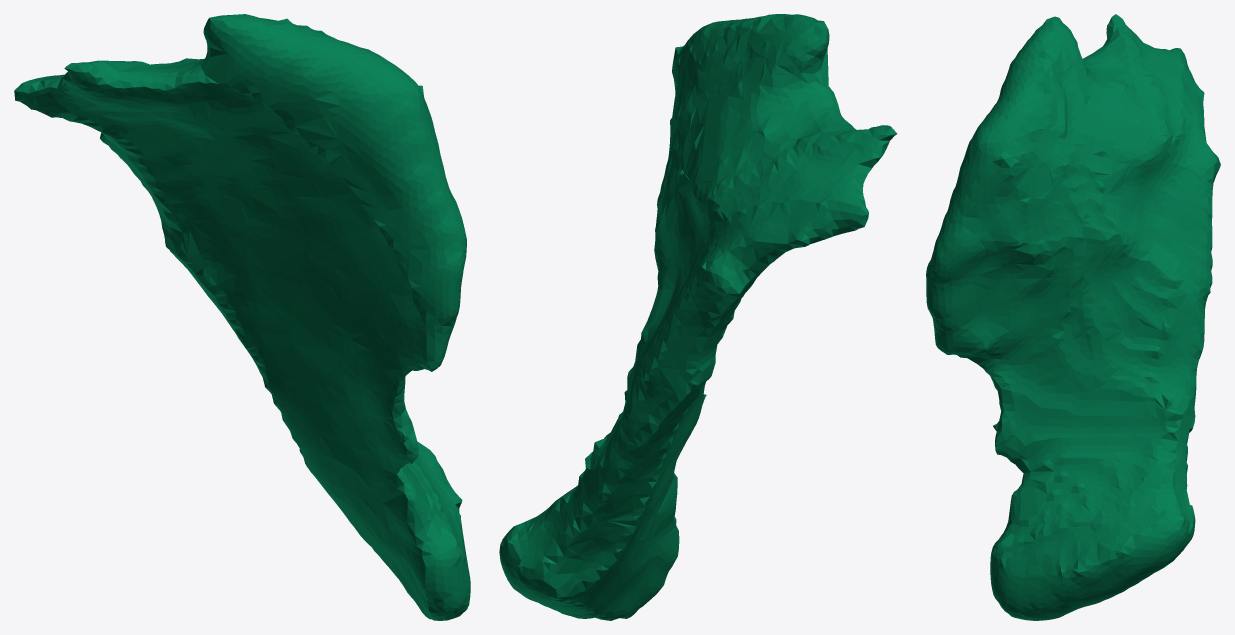
The model's file is Model_212_RH__Claustrum_(Cl).obj.
3 views of the same model, side by side, from view 1: azimuth 30°, elevation 25°; view 2: azimuth 150°, elevation 25°; view 3: azimuth 270°, elevation 25° (orthographic). The views are drawn at different scales.
Size of the model in its own units: 4.38 by 6.96 by 3.58.
